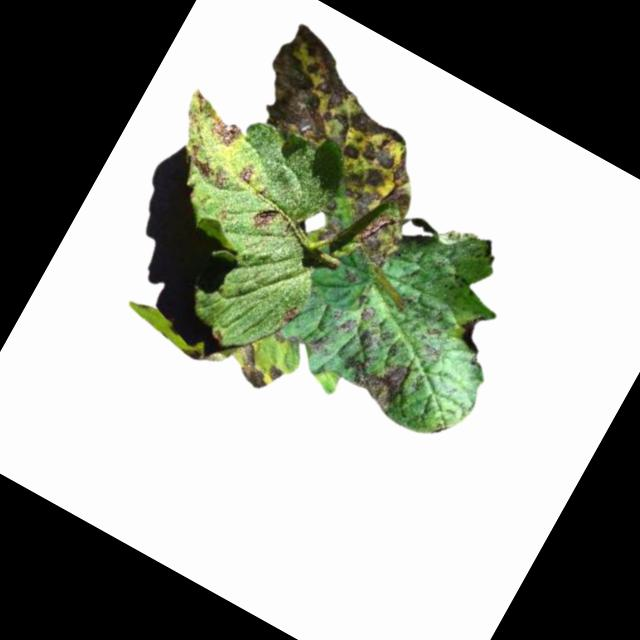Early_blight: (210, 19, 466, 267), (331, 330, 419, 417), (225, 337, 290, 396), (178, 146, 233, 194), (451, 308, 495, 358), (207, 115, 245, 151), (248, 202, 280, 234), (278, 302, 301, 328), (336, 316, 357, 338), (237, 162, 257, 185), (358, 303, 377, 323)
